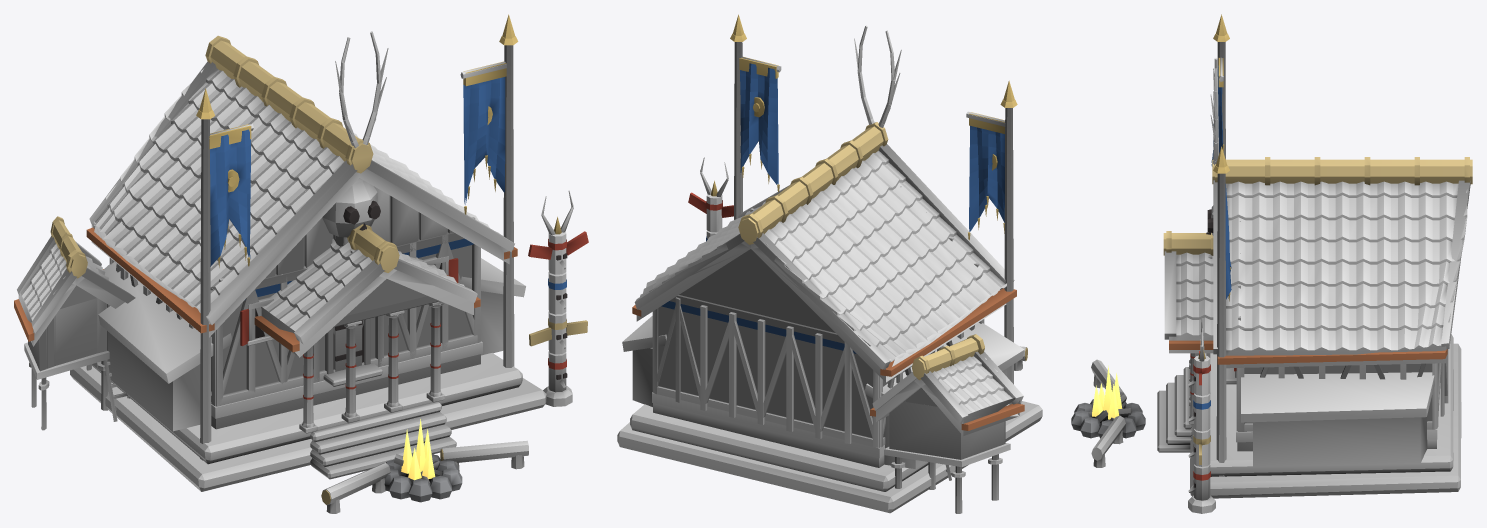
File: arcadia-hall-l2.glb
The picture shows the model from 3 angles, left to right: view 1: azimuth 30°, elevation 25°; view 2: azimuth 150°, elevation 25°; view 3: azimuth 270°, elevation 25°; orthographic projection. The views are drawn at different scales.
Parts seen in each view (by area): view 1: arcadia-hall-l2; view 2: arcadia-hall-l2; view 3: arcadia-hall-l2.
Boxes of the visible parts, left/top/right/bottom form: arcadia-hall-l2: left=14, top=14, right=588, bottom=513; arcadia-hall-l2: left=617, top=14, right=1042, bottom=513; arcadia-hall-l2: left=1071, top=14, right=1472, bottom=513.
Size of the model in its own units: 1.31 by 1.09 by 1.09.
